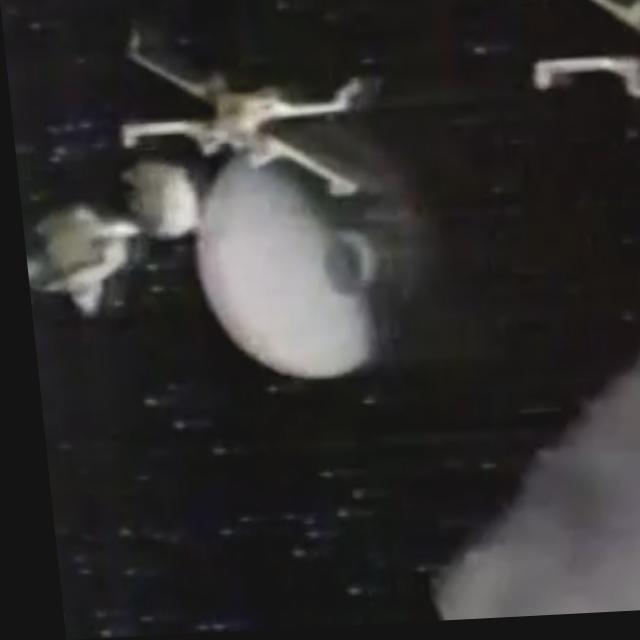deathStar: (179, 121, 428, 381)
